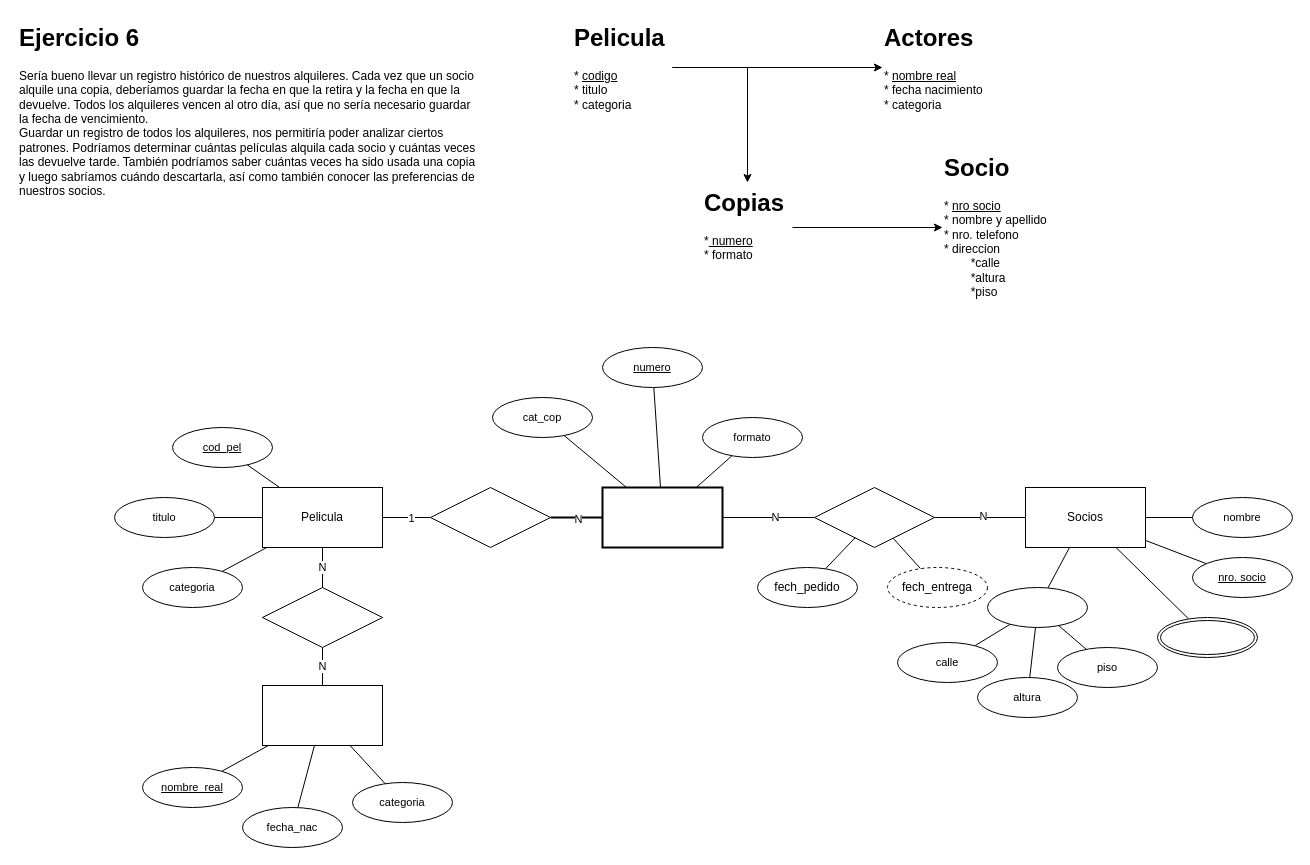
This 1310x865 diagram has some shape labels left out. The centre of each missing label's shape, as x and y in pixels:
"Actores" belongs at point (322, 715).
"actuan" belongs at point (322, 617).
"Copias" belongs at point (662, 517).
"direccion" belongs at point (1037, 607).
"nro_telefono" belongs at point (1207, 637).
"solicitan" belongs at point (874, 517).
"tiene" belongs at point (490, 517).
